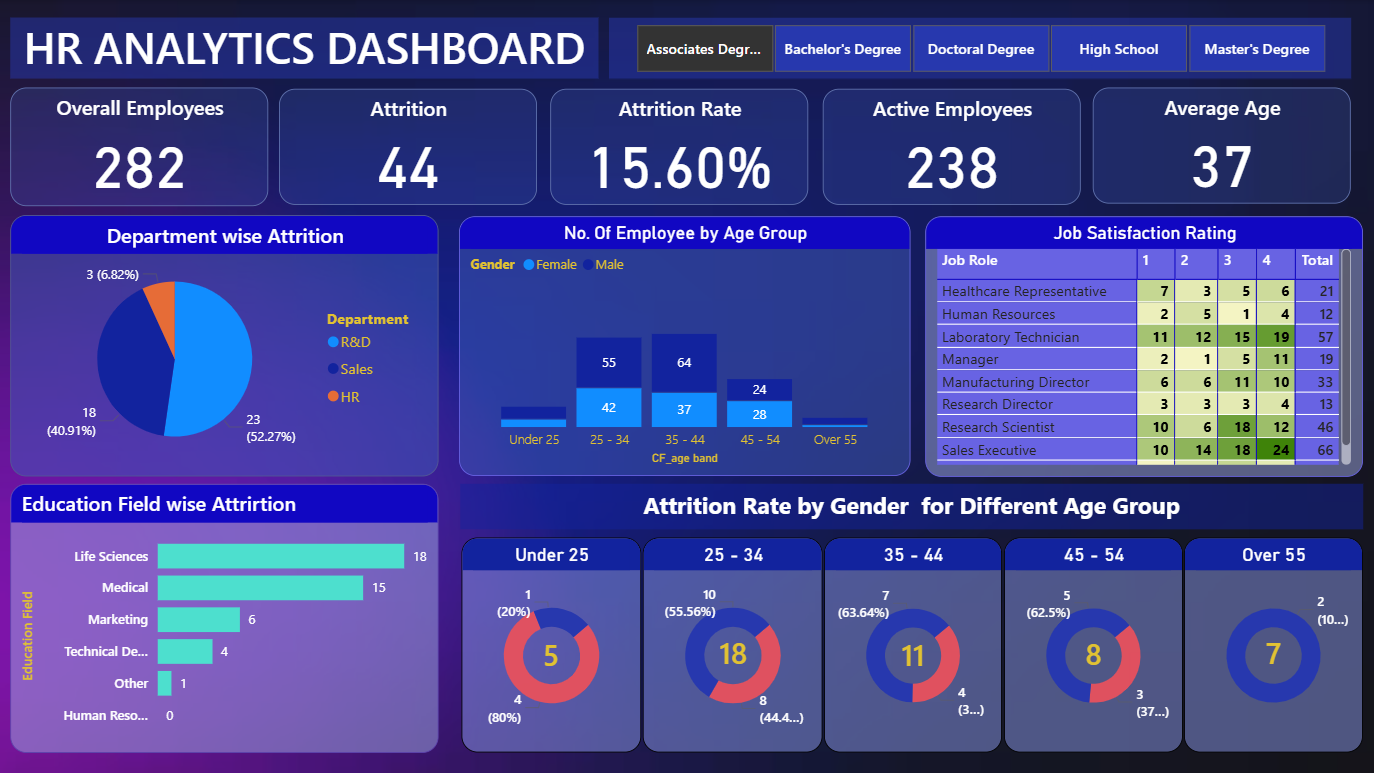

The page's visual inventory and layout, read from the dashboard file:
{"tool":"powerbi","page":{"name":"Page 1","canvas":[1280,720],"ordinal":0},"visuals":[{"type":"card","title":"Overall Employees","fields":{"Values":["Sum(HR data.Employee Count)"]},"box":[10,80.8,240,110],"z":0},{"type":"card","title":"Attrition","fields":{"Values":["Sum(HR data.Attrition Count)"]},"box":[260.8,82.5,240,108.3],"z":1000},{"type":"card","title":"Attrition Rate","fields":{"Values":["HR data.Attrition Rate"]},"box":[512.5,82.5,240,108.3],"z":2000},{"type":"card","title":"Active Employees","fields":{"Values":["HR data.Active Employee"]},"box":[765.8,82.5,240,108.3],"z":3000},{"type":"card","title":"Average Age","fields":{"Values":["Avg(HR data.Age)"]},"box":[1017.5,81.7,240,108.3],"z":4000},{"type":"pieChart","title":"Department wise Attrition","fields":{"Category":["HR data.Department"],"Y":["Sum(HR data.Attrition Count)"]},"box":[10,200,398.6,242.9],"z":5000},{"type":"columnChart","title":"No. Of Employee by Age Group","fields":{"Category":["HR data.CF_age band"],"Y":["Sum(HR data.Employee Count)"],"Series":["HR data.Gender"]},"box":[428.3,201.7,420,241.7],"z":6000},{"type":"pivotTable","title":"Job Satisfaction Rating","fields":{"Rows":["HR data.Job Role"],"Columns":["HR data.Job Satisfaction"],"Values":["Sum(HR data.Employee Count)"]},"box":[861.2,201.2,407.5,242.5],"z":7000},{"type":"barChart","title":"Education Field wise Attrirtion","fields":{"Category":["HR data.Education Field"],"Y":["Sum(HR data.Attrition Count)"]},"box":[10,450,398.6,250],"z":8000},{"type":"donutChart","title":"Under 25","fields":{"Y":["Sum(HR data.Attrition Count)"],"Series":["HR data.CF_age band"],"Category":["HR data.Gender"]},"box":[430,500,167.1,200],"z":9000},{"type":"textbox","box":[428.7,450,840,42],"z":10000},{"type":"donutChart","title":"45 - 54","fields":{"Y":["Sum(HR data.Attrition Count)"],"Series":["HR data.CF_age band"],"Category":["HR data.Gender"]},"box":[934.7,500,166,200],"z":11000},{"type":"donutChart","title":"25 - 34","fields":{"Y":["Sum(HR data.Attrition Count)"],"Series":["HR data.CF_age band"],"Category":["HR data.Gender"]},"box":[598.7,500,167.3,200],"z":12000},{"type":"donutChart","title":"Over 55 ","fields":{"Y":["Sum(HR data.Attrition Count)"],"Series":["HR data.CF_age band"],"Category":["HR data.Gender"]},"box":[1102.7,500,166,200],"z":13000},{"type":"donutChart","title":"35 - 44","fields":{"Y":["Sum(HR data.Attrition Count)"],"Series":["HR data.CF_age band"],"Category":["HR data.Gender"]},"box":[767.3,500,165.3,200],"z":14000},{"type":"card","fields":{"Values":["Sum(HR data.Attrition Count)"]},"box":[659.2,587.5,47.5,42.5],"z":15000},{"type":"card","fields":{"Values":["Sum(HR data.Attrition Count)"]},"box":[827.5,583.3,45,52.5],"z":16000},{"type":"card","fields":{"Values":["Sum(HR data.Attrition Count)"]},"box":[995,588.3,45.8,42.5],"z":17000},{"type":"card","fields":{"Values":["Sum(HR data.Attrition Count)"]},"box":[1162.5,587.5,45.8,42.5],"z":18000},{"type":"card","fields":{"Values":["Sum(HR data.Attrition Count)"]},"box":[490.8,589.2,45.8,42.5],"z":19000},{"type":"textbox","title":"HR ANALYTICS DASHBOARD","box":[10,15.7,547.1,57.1],"z":20000},{"type":"slicer","fields":{"Values":["HR data.Education"]},"box":[567.1,15.7,690,57.1],"z":21000}]}

Visuals, with their boxes in screenshot pixels (x1, y1, x2, y2), scaled from the page's 1280x720 canvas onto the 1374x773 screenshot:
"Overall Employees" card: x1=11, y1=87, x2=268, y2=205
"Attrition" card: x1=280, y1=89, x2=538, y2=205
"Attrition Rate" card: x1=550, y1=89, x2=808, y2=205
"Active Employees" card: x1=822, y1=89, x2=1080, y2=205
"Average Age" card: x1=1092, y1=88, x2=1350, y2=204
"Department wise Attrition" pieChart: x1=11, y1=215, x2=439, y2=476
"No. Of Employee by Age Group" columnChart: x1=460, y1=217, x2=911, y2=476
"Job Satisfaction Rating" pivotTable: x1=924, y1=216, x2=1362, y2=476
"Education Field wise Attrirtion" barChart: x1=11, y1=483, x2=439, y2=752
"Under 25" donutChart: x1=462, y1=537, x2=641, y2=752
textbox: x1=460, y1=483, x2=1362, y2=528
"45 - 54" donutChart: x1=1003, y1=537, x2=1182, y2=752
"25 - 34" donutChart: x1=643, y1=537, x2=822, y2=752
"Over 55 " donutChart: x1=1184, y1=537, x2=1362, y2=752
"35 - 44" donutChart: x1=824, y1=537, x2=1001, y2=752
card - Sum(HR data.Attrition Count): x1=708, y1=631, x2=759, y2=676
card - Sum(HR data.Attrition Count): x1=888, y1=626, x2=937, y2=683
card - Sum(HR data.Attrition Count): x1=1068, y1=632, x2=1117, y2=677
card - Sum(HR data.Attrition Count): x1=1248, y1=631, x2=1297, y2=676
card - Sum(HR data.Attrition Count): x1=527, y1=633, x2=576, y2=678
"HR ANALYTICS DASHBOARD" textbox: x1=11, y1=17, x2=598, y2=78
slicer - HR data.Education: x1=609, y1=17, x2=1349, y2=78
